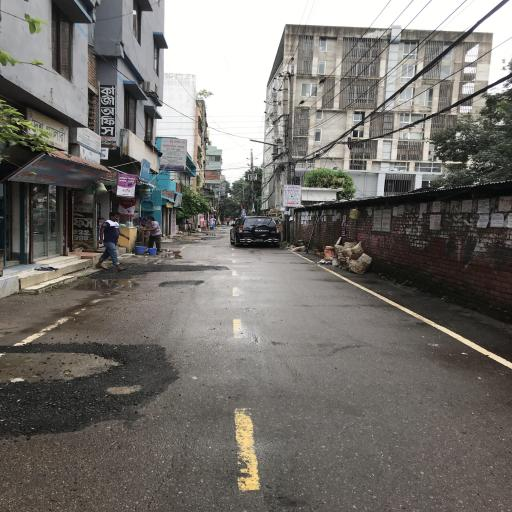suv: (228, 215, 285, 249)
